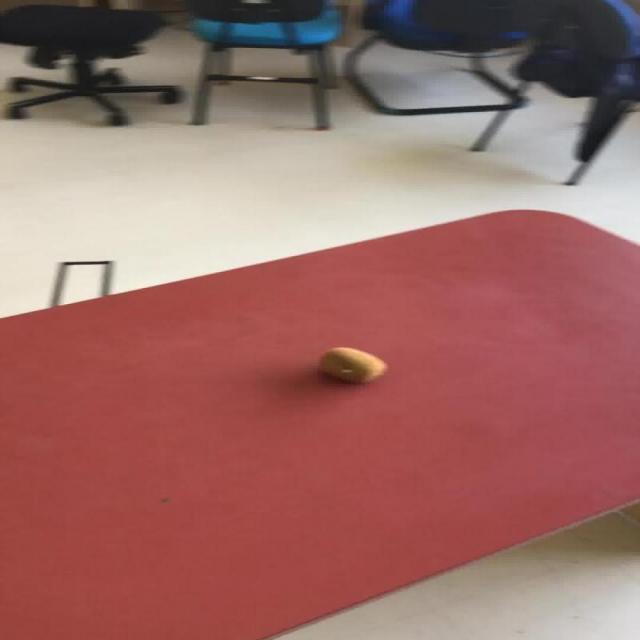Kiwi: (318, 346, 386, 383)
